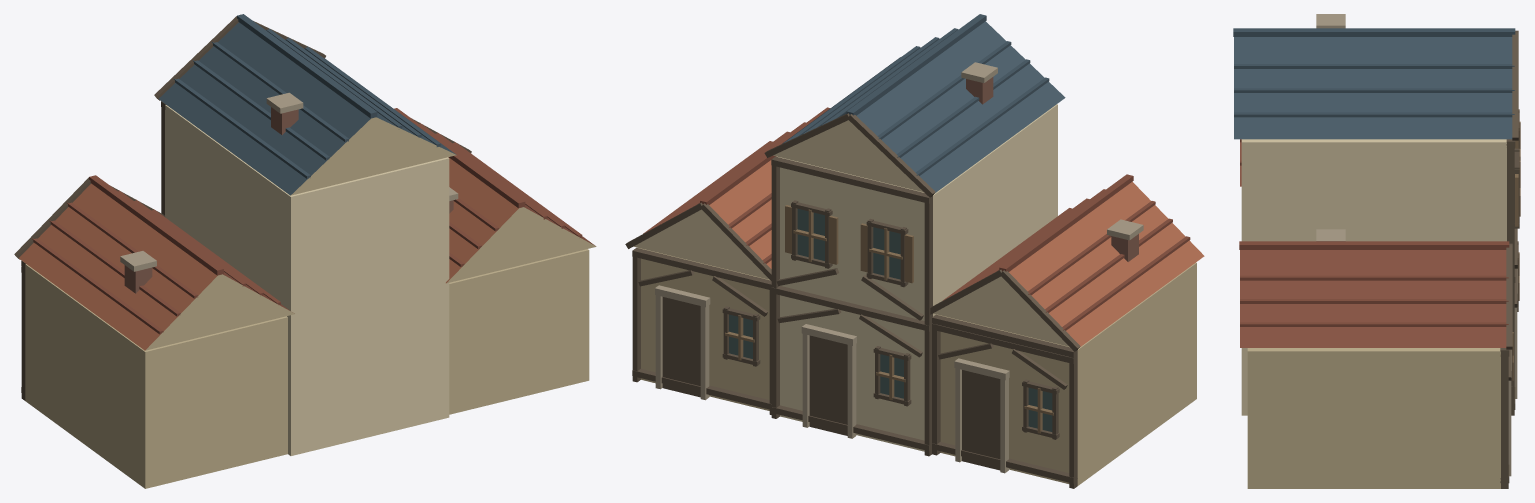
The model's file is WalkTown_RowA.fbx.
3 renders of one model, left to right at view 1: azimuth 30°, elevation 25°; view 2: azimuth 150°, elevation 25°; view 3: azimuth 270°, elevation 25°, orthographic. The views are drawn at different scales.
Visible parts, largest first — view 1: WalkTown_RowA; view 2: WalkTown_RowA; view 3: WalkTown_RowA.
Part boxes in pixels (x1,y1,x2,y2): WalkTown_RowA: (14, 14, 596, 488); WalkTown_RowA: (625, 14, 1204, 488); WalkTown_RowA: (1233, 14, 1520, 488).
Bounding box in the file's own units: 11.48 × 7.89 × 5.96.
